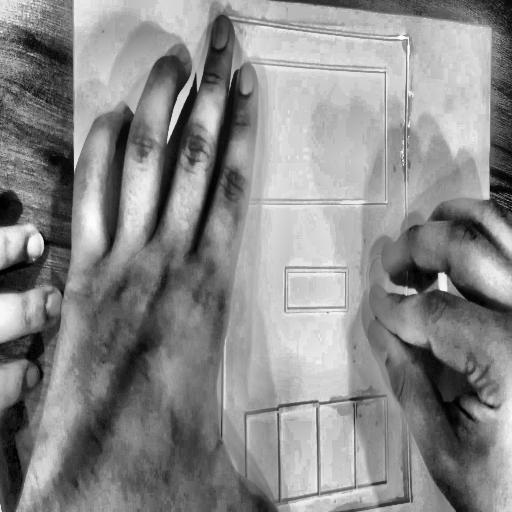door: (213, 9, 418, 511)
top_right: (488, 24, 495, 34)
